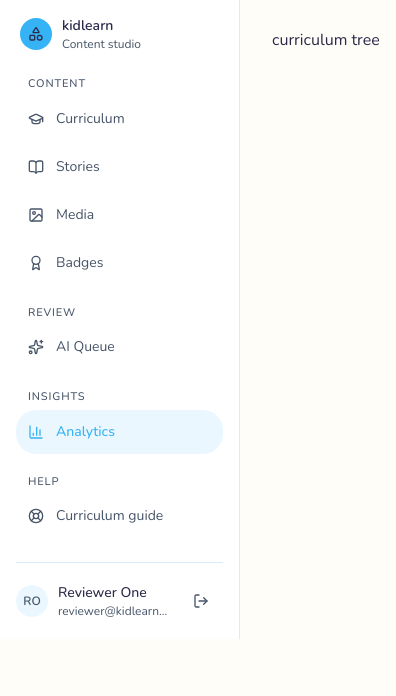
AdminCmsLayout › keeps the session and says so when sign-out fails
Click the button named "Sign out".
click(201, 601)  # box [179,579,223,623]
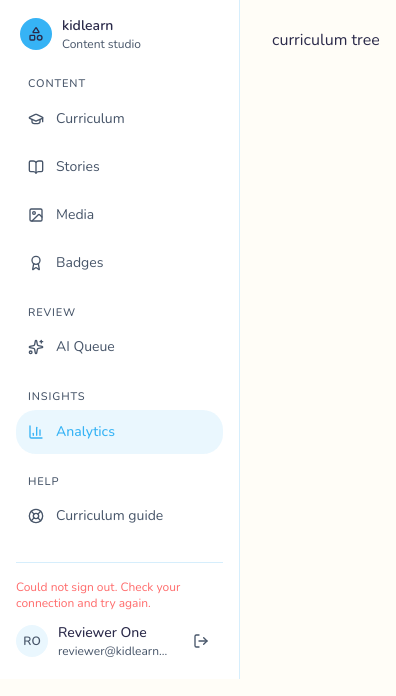
Expected: the text "curriculum tree" is shown, [272,29,380,51]
Expected: the message shows "Could not sign out", [16,579,180,611]
